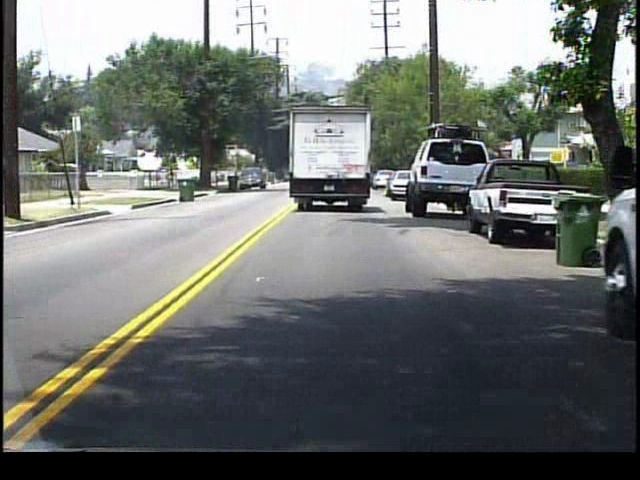person: (170, 166, 177, 192)
